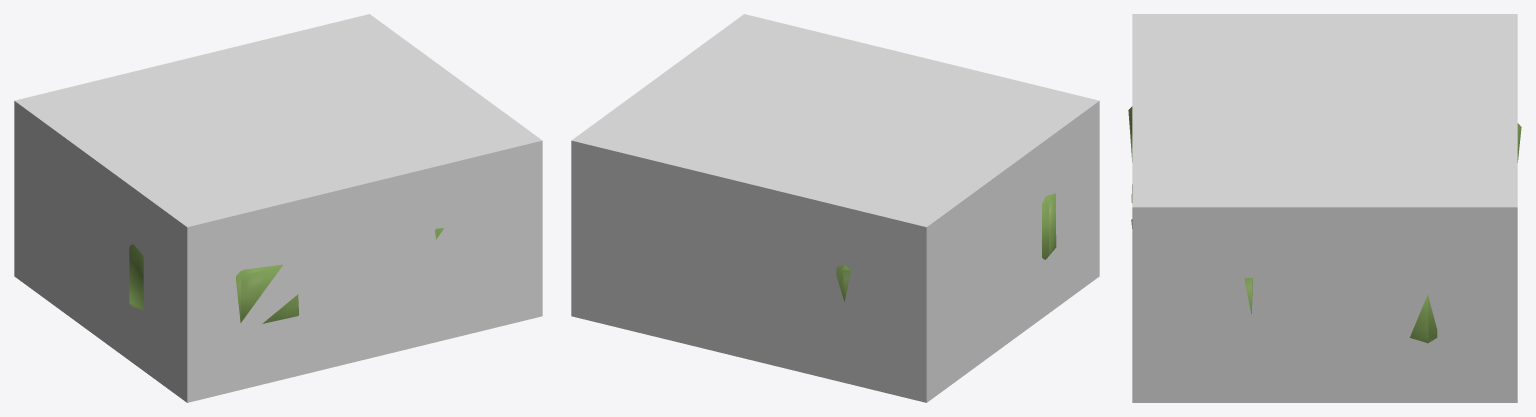
The model's file is FMS_Crate_Fill_Cabbage.fbx.
3 views of the same model, side by side, from view 1: azimuth 30°, elevation 25°; view 2: azimuth 150°, elevation 25°; view 3: azimuth 270°, elevation 25° (orthographic). The views are drawn at different scales.
Visible parts, largest first — view 1: Crate_Fill_Cabbage_Col, Crate_Fill_Cabbage_LOD0; view 2: Crate_Fill_Cabbage_Col, Crate_Fill_Cabbage_LOD0; view 3: Crate_Fill_Cabbage_Col, Crate_Fill_Cabbage_LOD0.
Boxes of the visible parts, x1,y1,x2,y2 form: Crate_Fill_Cabbage_Col: (14,14,542,402); Crate_Fill_Cabbage_LOD0: (129,228,443,323); Crate_Fill_Cabbage_Col: (571,14,1099,402); Crate_Fill_Cabbage_LOD0: (836,193,1056,301); Crate_Fill_Cabbage_Col: (1132,14,1517,402); Crate_Fill_Cabbage_LOD0: (1128,106,1521,343).
Size of what is drawn, in the model's own units: 37.09 by 17.18 by 31.26.
